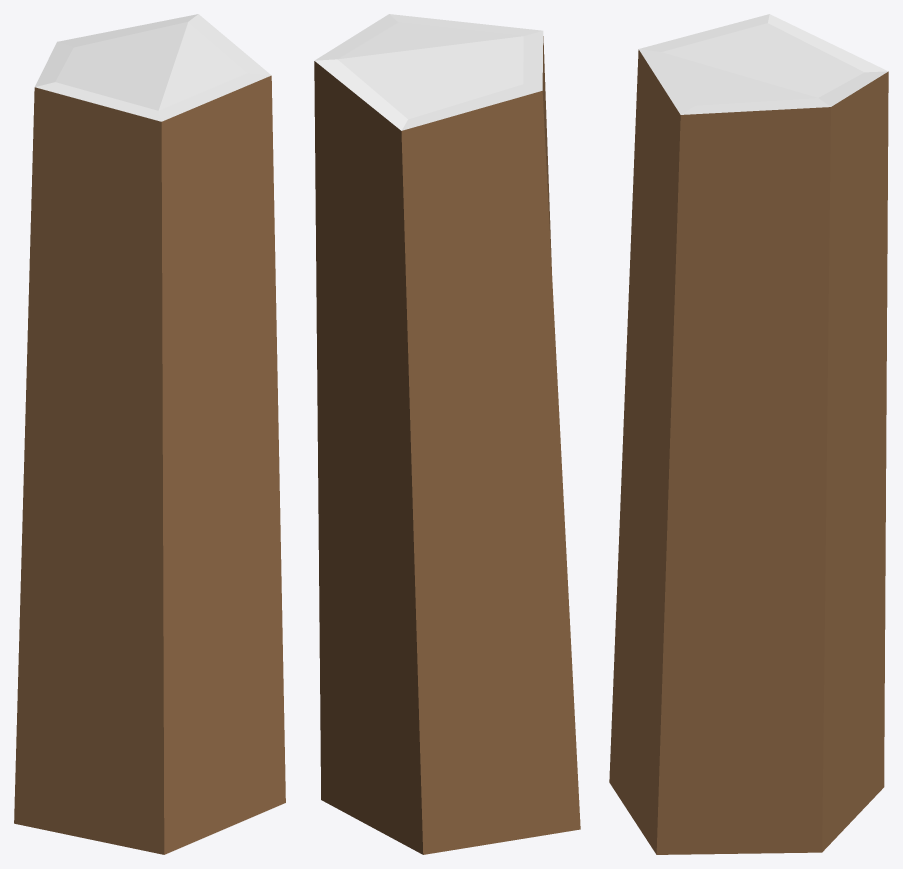
Rendered from Pine_Stump_Snow_01.fbx.
The picture shows the model from 3 angles, left to right: view 1: azimuth 30°, elevation 25°; view 2: azimuth 150°, elevation 25°; view 3: azimuth 270°, elevation 25°; orthographic projection. The views are drawn at different scales.
Visible parts, largest first — view 1: Pine_Stump_Snow_01; view 2: Pine_Stump_Snow_01; view 3: Pine_Stump_Snow_01.
Boxes of the visible parts, x1=… form: Pine_Stump_Snow_01: x1=14, y1=14, x2=285, y2=854; Pine_Stump_Snow_01: x1=314, y1=14, x2=580, y2=854; Pine_Stump_Snow_01: x1=609, y1=14, x2=888, y2=854.
Size of the model in its own units: 64.79 by 200 by 67.77.
